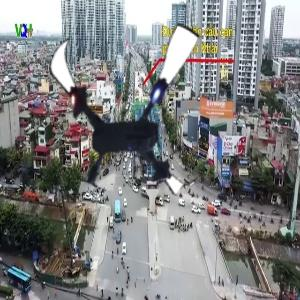drone: (27, 7, 226, 206)
